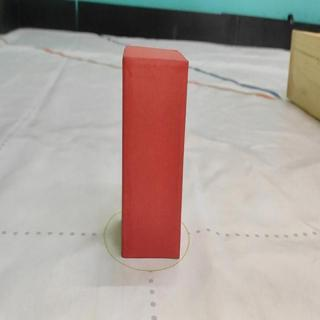redbox: (122, 45, 188, 259)
